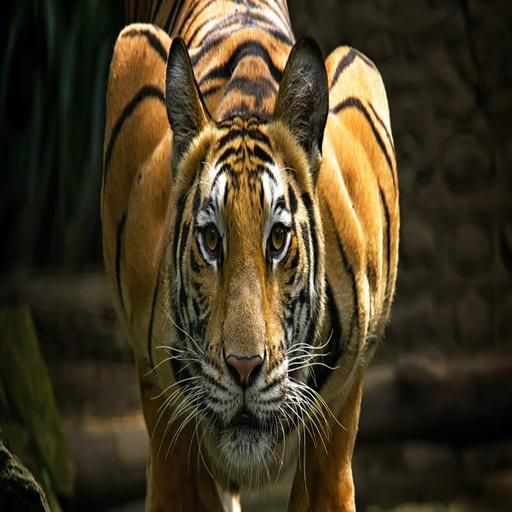Tiger: (90, 0, 406, 512)
